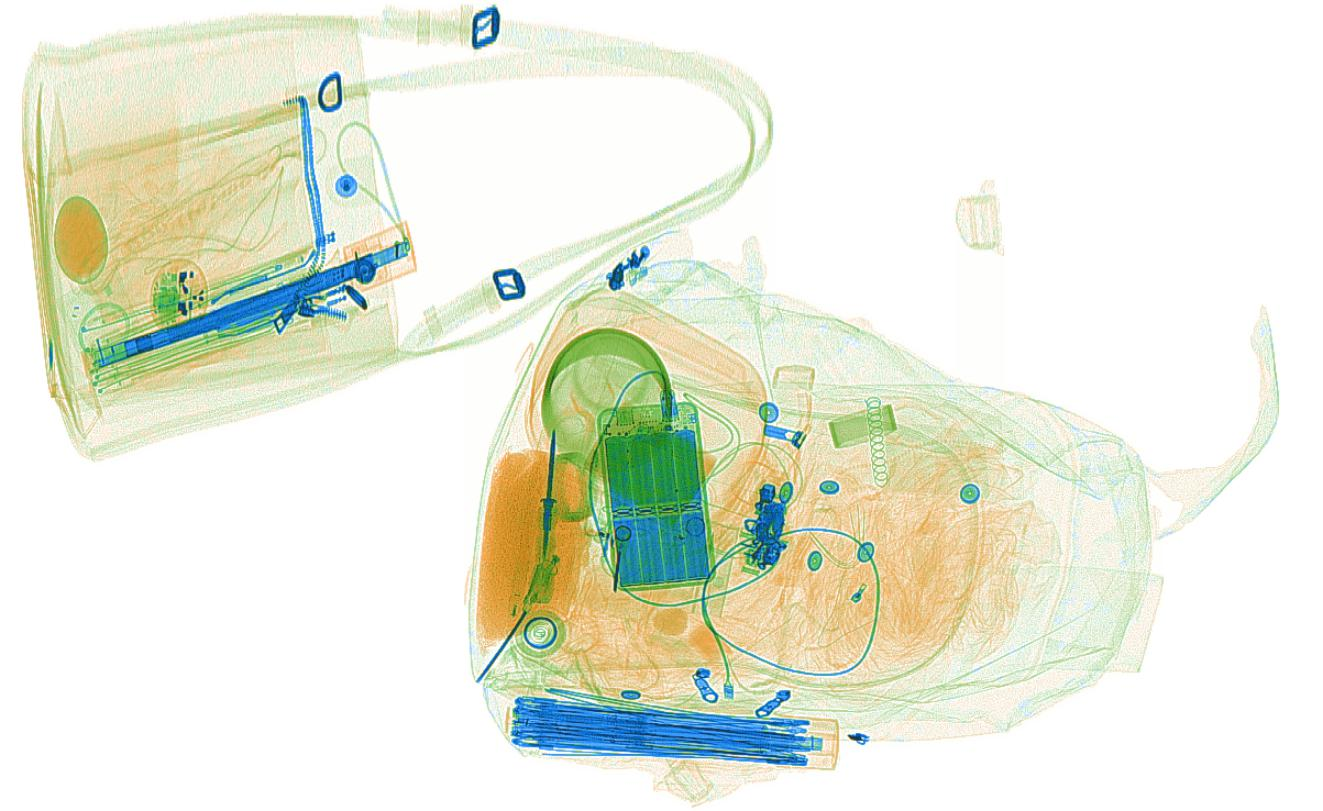battery: (596, 399, 716, 593)
